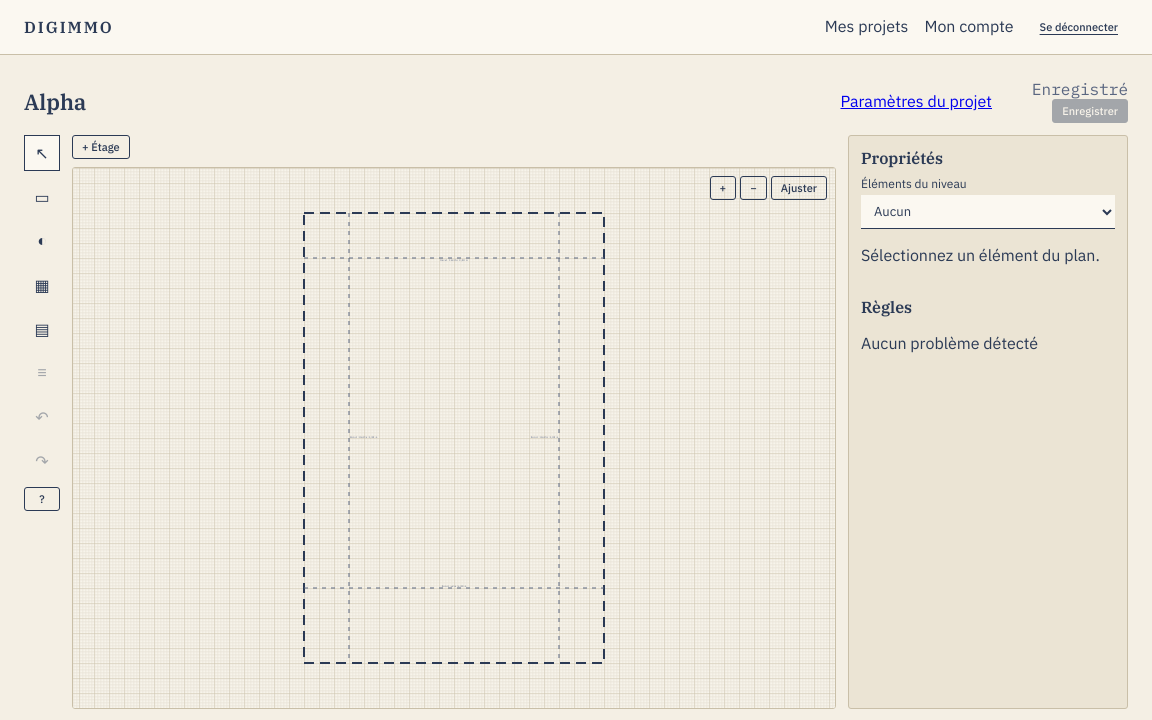
Scenario: sauvegarde automatique › modification pendant un envoi : second PUT avec la dernière version, jamais deux en vol
Expected: the picture named "Plan du projet" is shown, [73,168,835,708]
Click the button "+ Étage" at (101, 147), box [72,135,130,159]
Wait 3100 ms
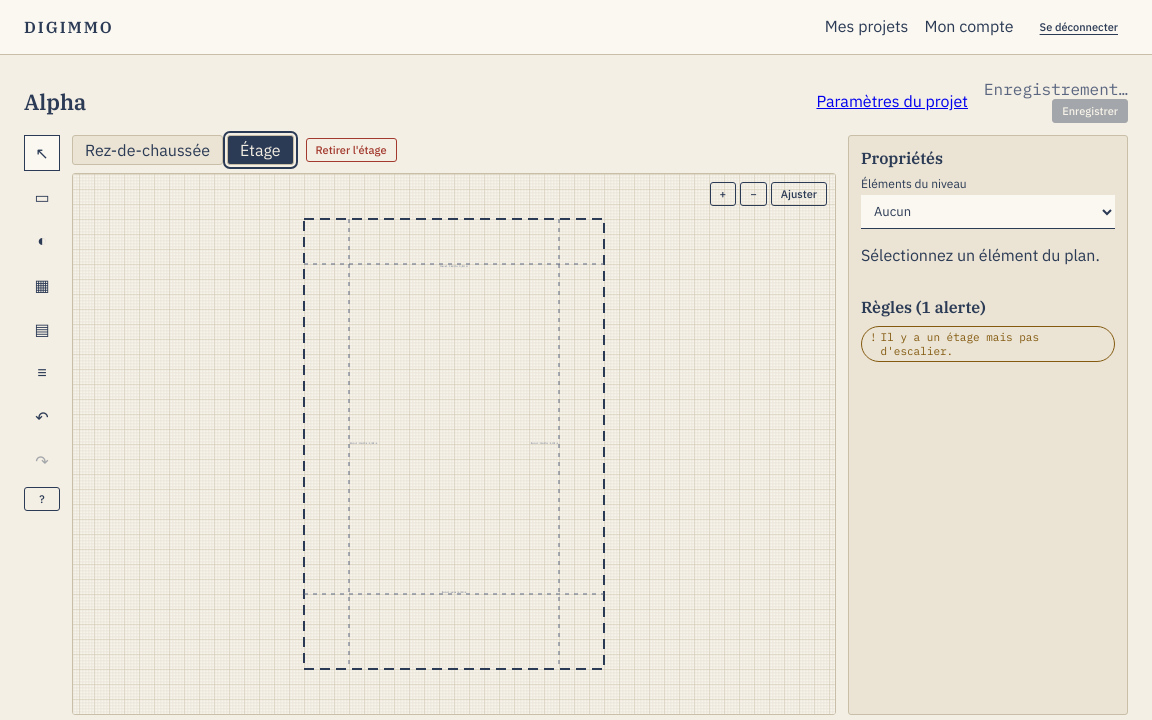
Expected: the text "Enregistrement…" is shown, [984,79,1128,99]
Click the button "Retirer l'étage" at (351, 150), box [306,138,397,162]
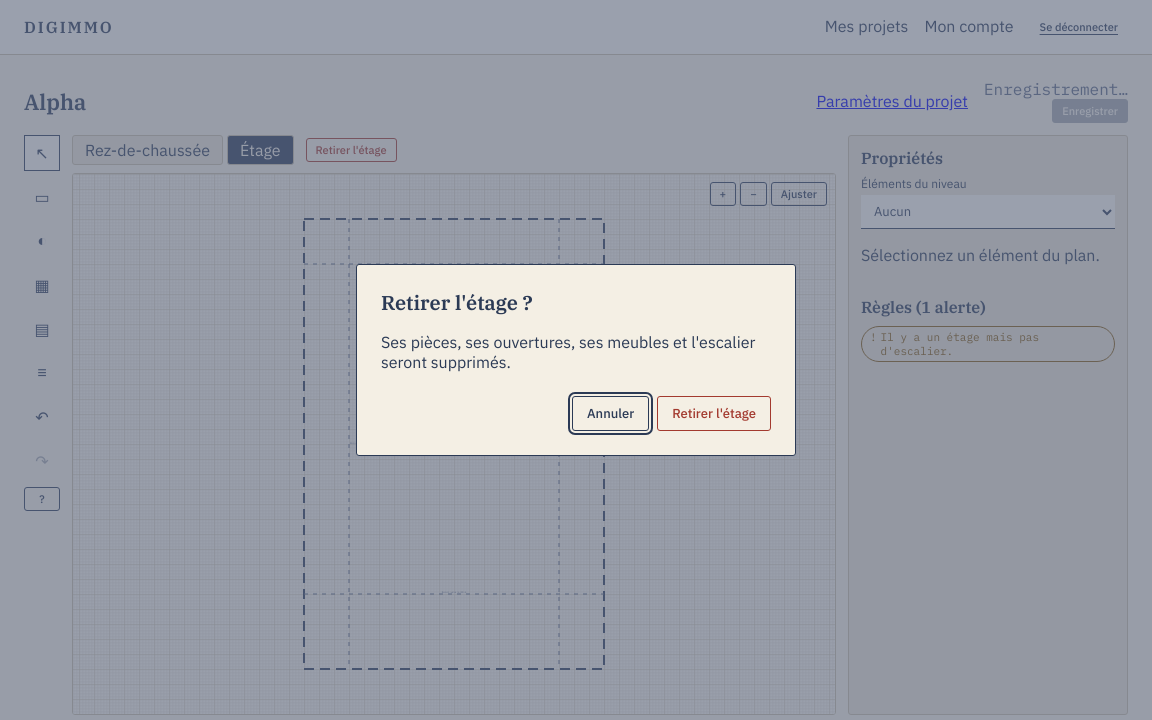
Click the button "Retirer l'étage" below "Retirer l'étage ?" at (714, 414), box [657,396,771,431]
Wait 7500 ms
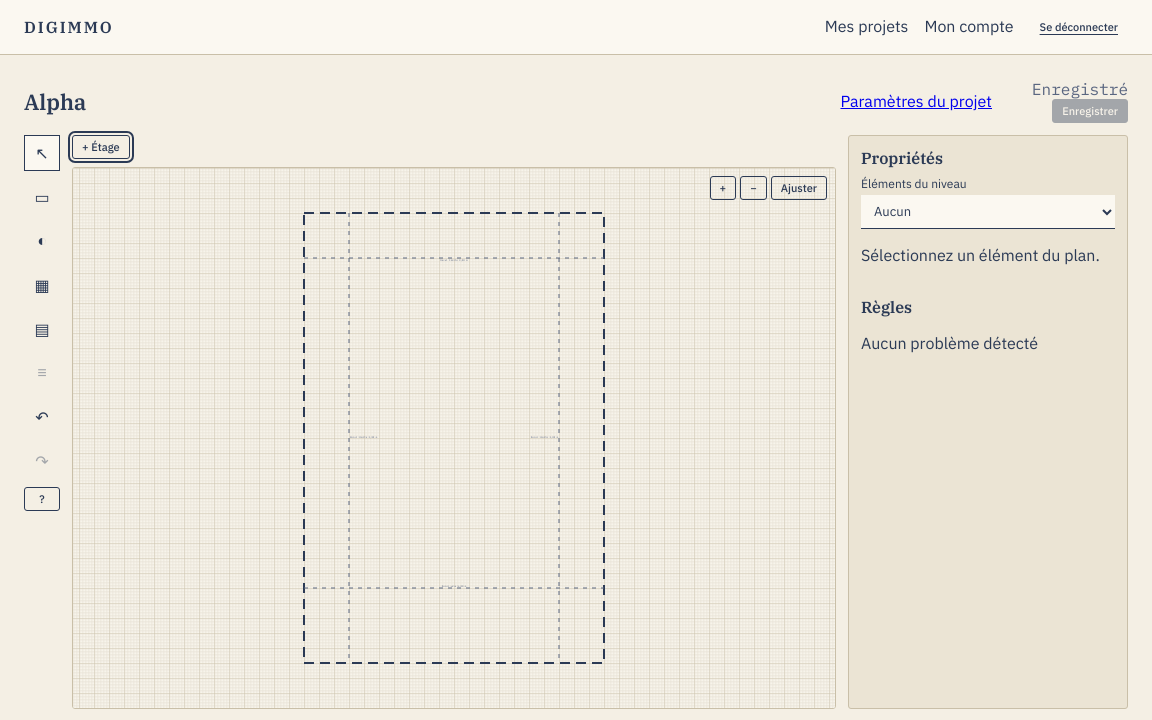
Expected: the text "Enregistré" is shown, [1032,79,1128,99]
